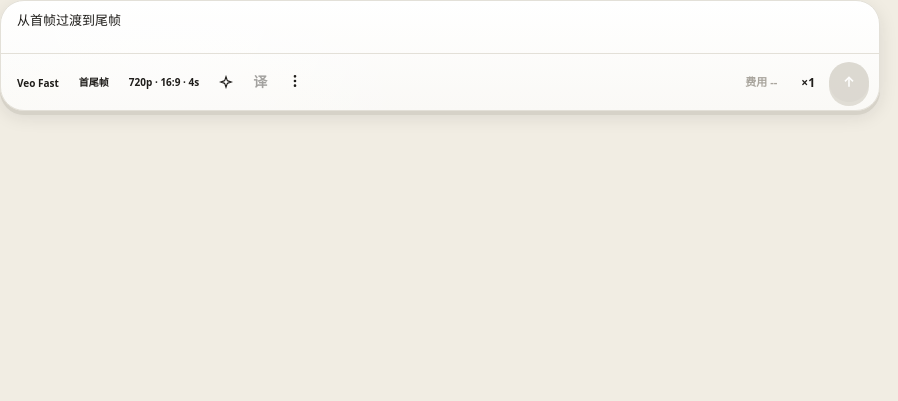
workflow node overlays › shows only durations accepted by the final mapped video route
This screenshot has width=898, height=401.
Click the button titled "生成参数" at coordinates (164, 82), box x1=123 y1=70 x2=205 y2=94
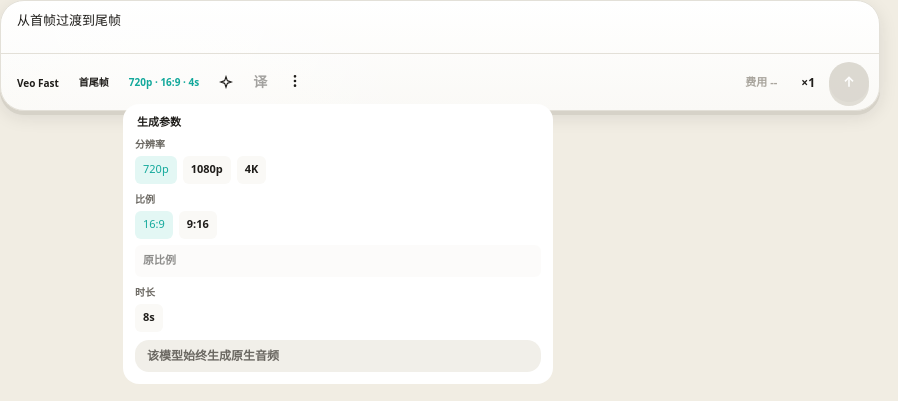
Expected: the button "8s" is shown, x1=135 y1=304 x2=163 y2=332
